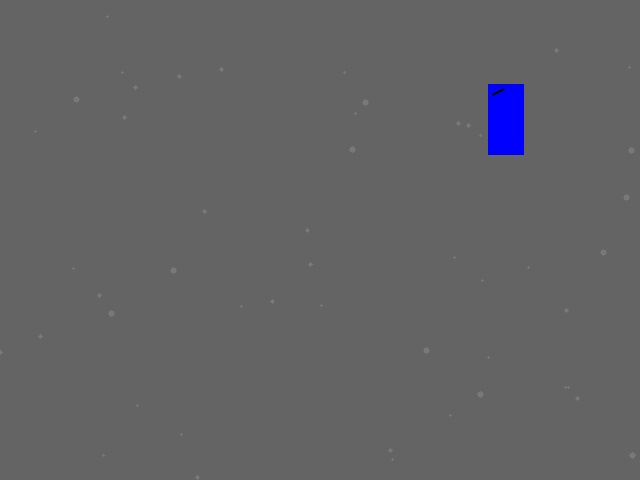motorcycle: (488, 84, 523, 154)
